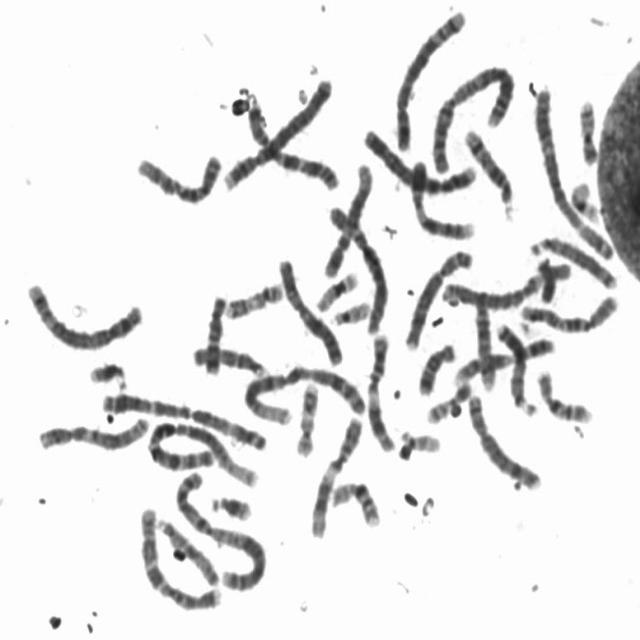A1: (144, 415, 262, 490), (240, 359, 368, 427)
A2: (170, 465, 268, 592), (426, 59, 517, 176)
A3: (527, 79, 617, 264), (96, 388, 270, 452)
B4: (217, 73, 337, 195), (359, 123, 479, 196)
B5: (389, 2, 468, 155), (21, 277, 145, 354)
C10: (130, 146, 225, 208), (515, 288, 622, 336)
C11: (306, 414, 366, 541), (363, 326, 399, 455)
C12: (319, 158, 376, 279), (33, 409, 152, 454)
C6: (325, 201, 392, 336), (436, 255, 571, 312)
C7: (133, 502, 225, 614), (245, 96, 342, 192)
C8: (463, 388, 544, 493), (400, 242, 476, 352)
C9: (405, 153, 479, 242), (449, 332, 559, 386)
D13: (526, 232, 620, 292), (494, 317, 540, 419)
D14: (460, 123, 518, 216), (471, 292, 498, 394)
D15: (150, 514, 222, 590), (188, 340, 269, 379)
E16: (533, 365, 595, 426), (327, 476, 384, 530)
E17: (222, 276, 286, 321), (292, 376, 320, 459)
E18: (414, 338, 458, 398), (201, 291, 228, 377)
F19: (312, 265, 362, 313), (567, 174, 603, 225)
F20: (424, 378, 474, 425), (574, 94, 601, 168)
G21: (206, 489, 254, 523), (85, 356, 130, 391)
G22: (396, 425, 443, 457), (328, 296, 372, 327)
X: (274, 253, 345, 369)
Y: (533, 253, 558, 306)
